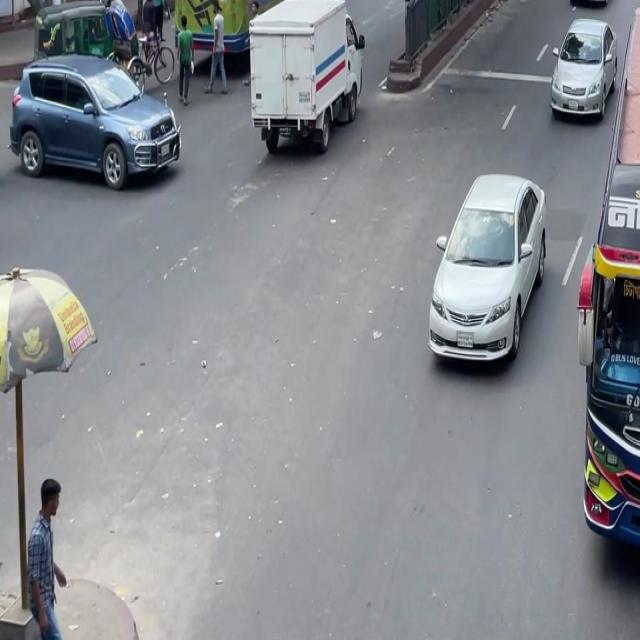bus: (580, 60, 640, 588), (157, 0, 334, 56)
car: (6, 30, 186, 216), (422, 158, 553, 384), (547, 11, 619, 128), (566, 0, 621, 13)
van: (238, 0, 368, 176)
